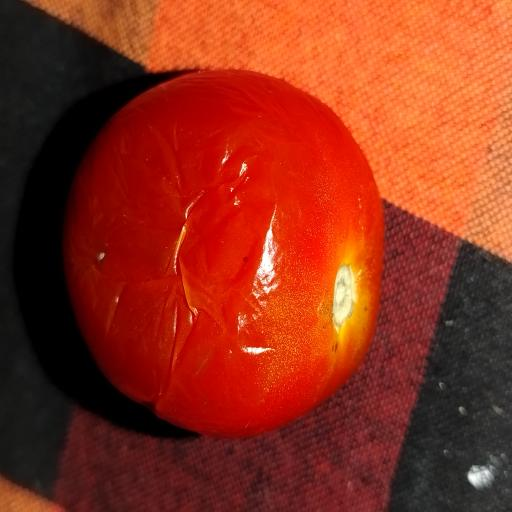spoiled: (62, 70, 384, 437)
